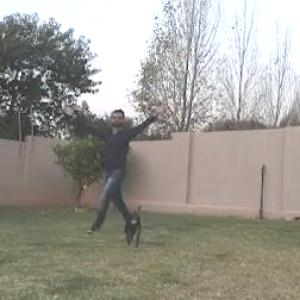takeoff: (99, 92, 209, 231)
